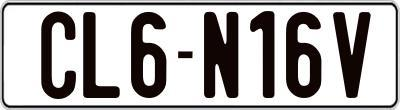1: (248, 9, 275, 102)
6: (129, 12, 170, 100), (284, 10, 319, 96)
C: (38, 11, 73, 99)
L: (82, 12, 123, 104)
N: (204, 9, 242, 99)
V: (332, 9, 373, 98)
